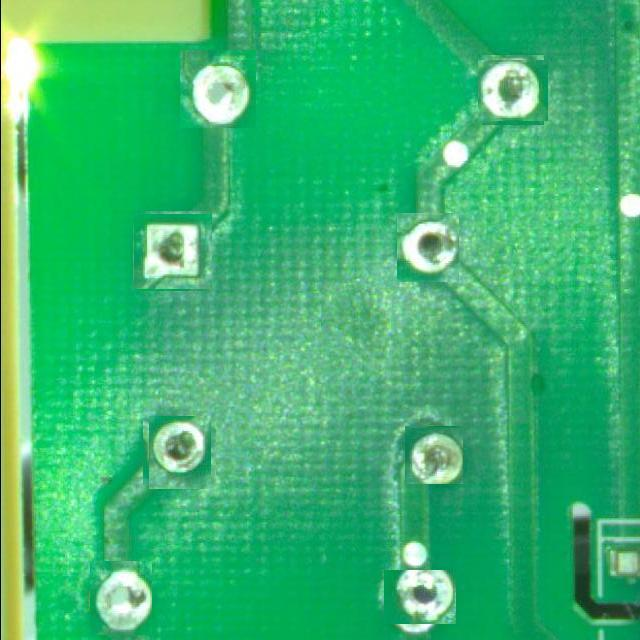lack_of_part: (134, 213, 211, 290), (180, 50, 256, 128), (90, 561, 152, 635), (146, 418, 213, 486), (480, 57, 546, 123), (396, 214, 462, 280), (384, 570, 456, 624), (406, 426, 464, 484)
